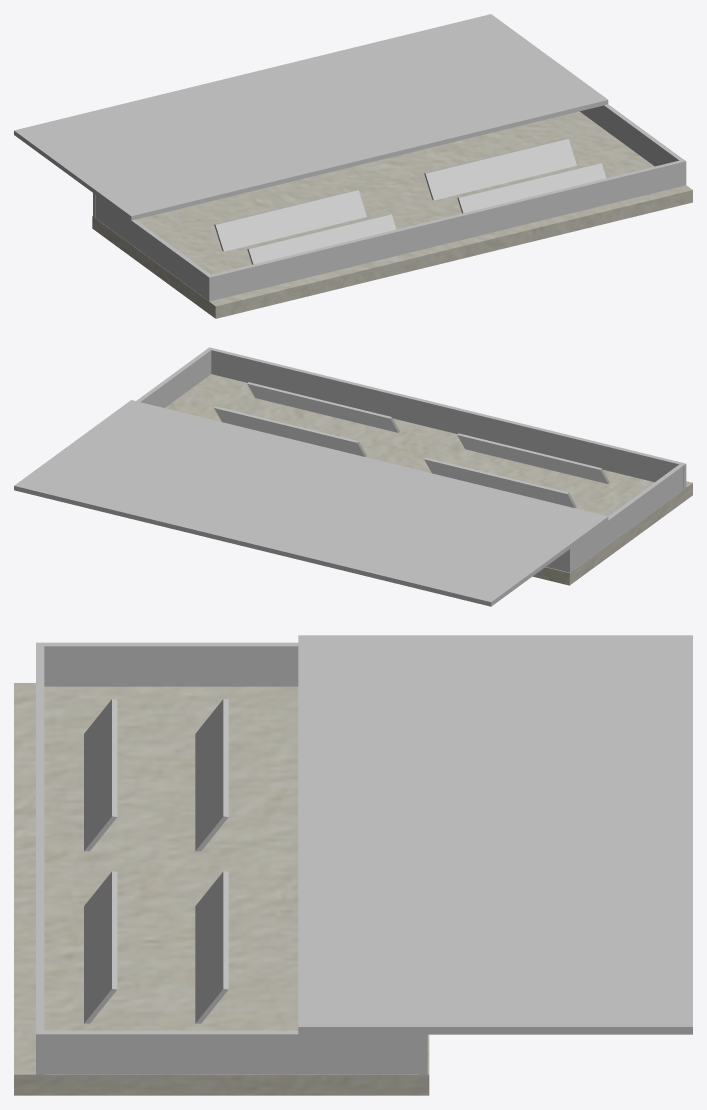
Rendered from MEE.fbx.
3 renders of one model, top to bottom at view 1: azimuth 30°, elevation 25°; view 2: azimuth 150°, elevation 25°; view 3: azimuth 270°, elevation 25°, orthographic. The views are drawn at different scales.
Parts seen in each view (by area): view 1: SampleRack_Cover, SampleRack, SampleRack_FW, Sample_3, Sample_4, SampleRack_SW2, Sample_1, Sample_2, SampleRack_SW1; view 2: SampleRack_Cover, SampleRack, SampleRack_FW, SampleRack_SW2, Sample_1, Sample_2, Sample_3, Sample_4, SampleRack_SW1; view 3: SampleRack_Cover, SampleRack, SampleRack_SW1, SampleRack_SW2, Sample_1, Sample_3, Sample_2, Sample_4, SampleRack_FW.
Part boxes in pixels (<box>): SampleRack_Cover: <box>14,14,608,220</box>; SampleRack: <box>92,111,692,318</box>; SampleRack_FW: <box>206,159,686,301</box>; Sample_3: <box>214,189,366,251</box>; Sample_4: <box>424,138,576,200</box>; SampleRack_SW2: <box>95,195,210,299</box>; Sample_1: <box>247,213,396,264</box>; Sample_2: <box>457,162,606,213</box>; SampleRack_SW1: <box>580,104,683,166</box>; SampleRack_Cover: <box>14,400,608,606</box>; SampleRack: <box>165,374,692,585</box>; SampleRack_FW: <box>207,347,686,489</box>; SampleRack_SW2: <box>572,464,683,570</box>; Sample_1: <box>457,433,609,483</box>; Sample_2: <box>247,382,399,432</box>; Sample_3: <box>424,457,576,508</box>; Sample_4: <box>214,406,366,456</box>; SampleRack_SW1: <box>136,349,211,407</box>; SampleRack_Cover: <box>298,635,692,1034</box>; SampleRack: <box>14,683,429,1095</box>; SampleRack_SW1: <box>44,1030,419,1074</box>; SampleRack_SW2: <box>44,642,298,686</box>; Sample_1: <box>84,699,117,851</box>; Sample_3: <box>195,699,228,851</box>; Sample_2: <box>84,871,117,1023</box>; Sample_4: <box>195,871,228,1023</box>; SampleRack_FW: <box>36,642,44,1074</box>.
Size of the model in its own units: 2 by 0.1632 by 1.46.
